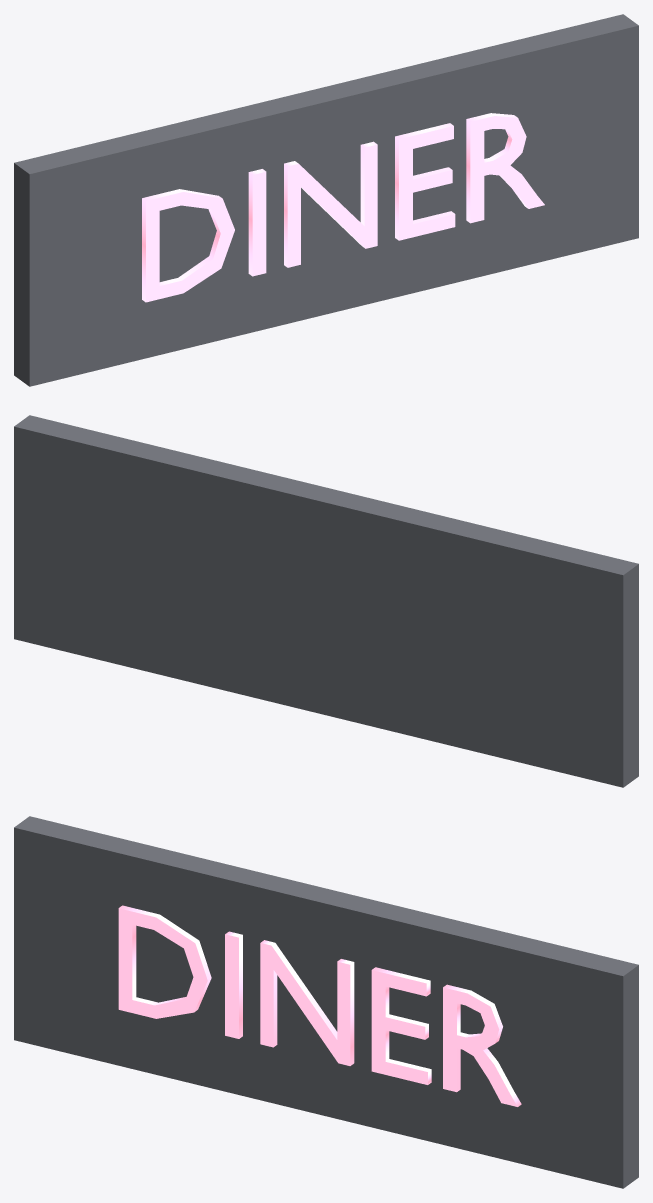
Rendered from diner_neon.glb.
3 views of the same model, one above another, from view 1: azimuth 30°, elevation 25°; view 2: azimuth 150°, elevation 25°; view 3: azimuth 330°, elevation 25° (orthographic).
Visible parts, largest first — view 1: diner_neon; view 2: diner_neon; view 3: diner_neon.
Part boxes in pixels (x1,y1,x2,y2): diner_neon: [14, 14, 638, 386]; diner_neon: [14, 415, 638, 787]; diner_neon: [14, 816, 638, 1188].
Size of the model in its own units: 1.8 by 0.6 by 0.11.
